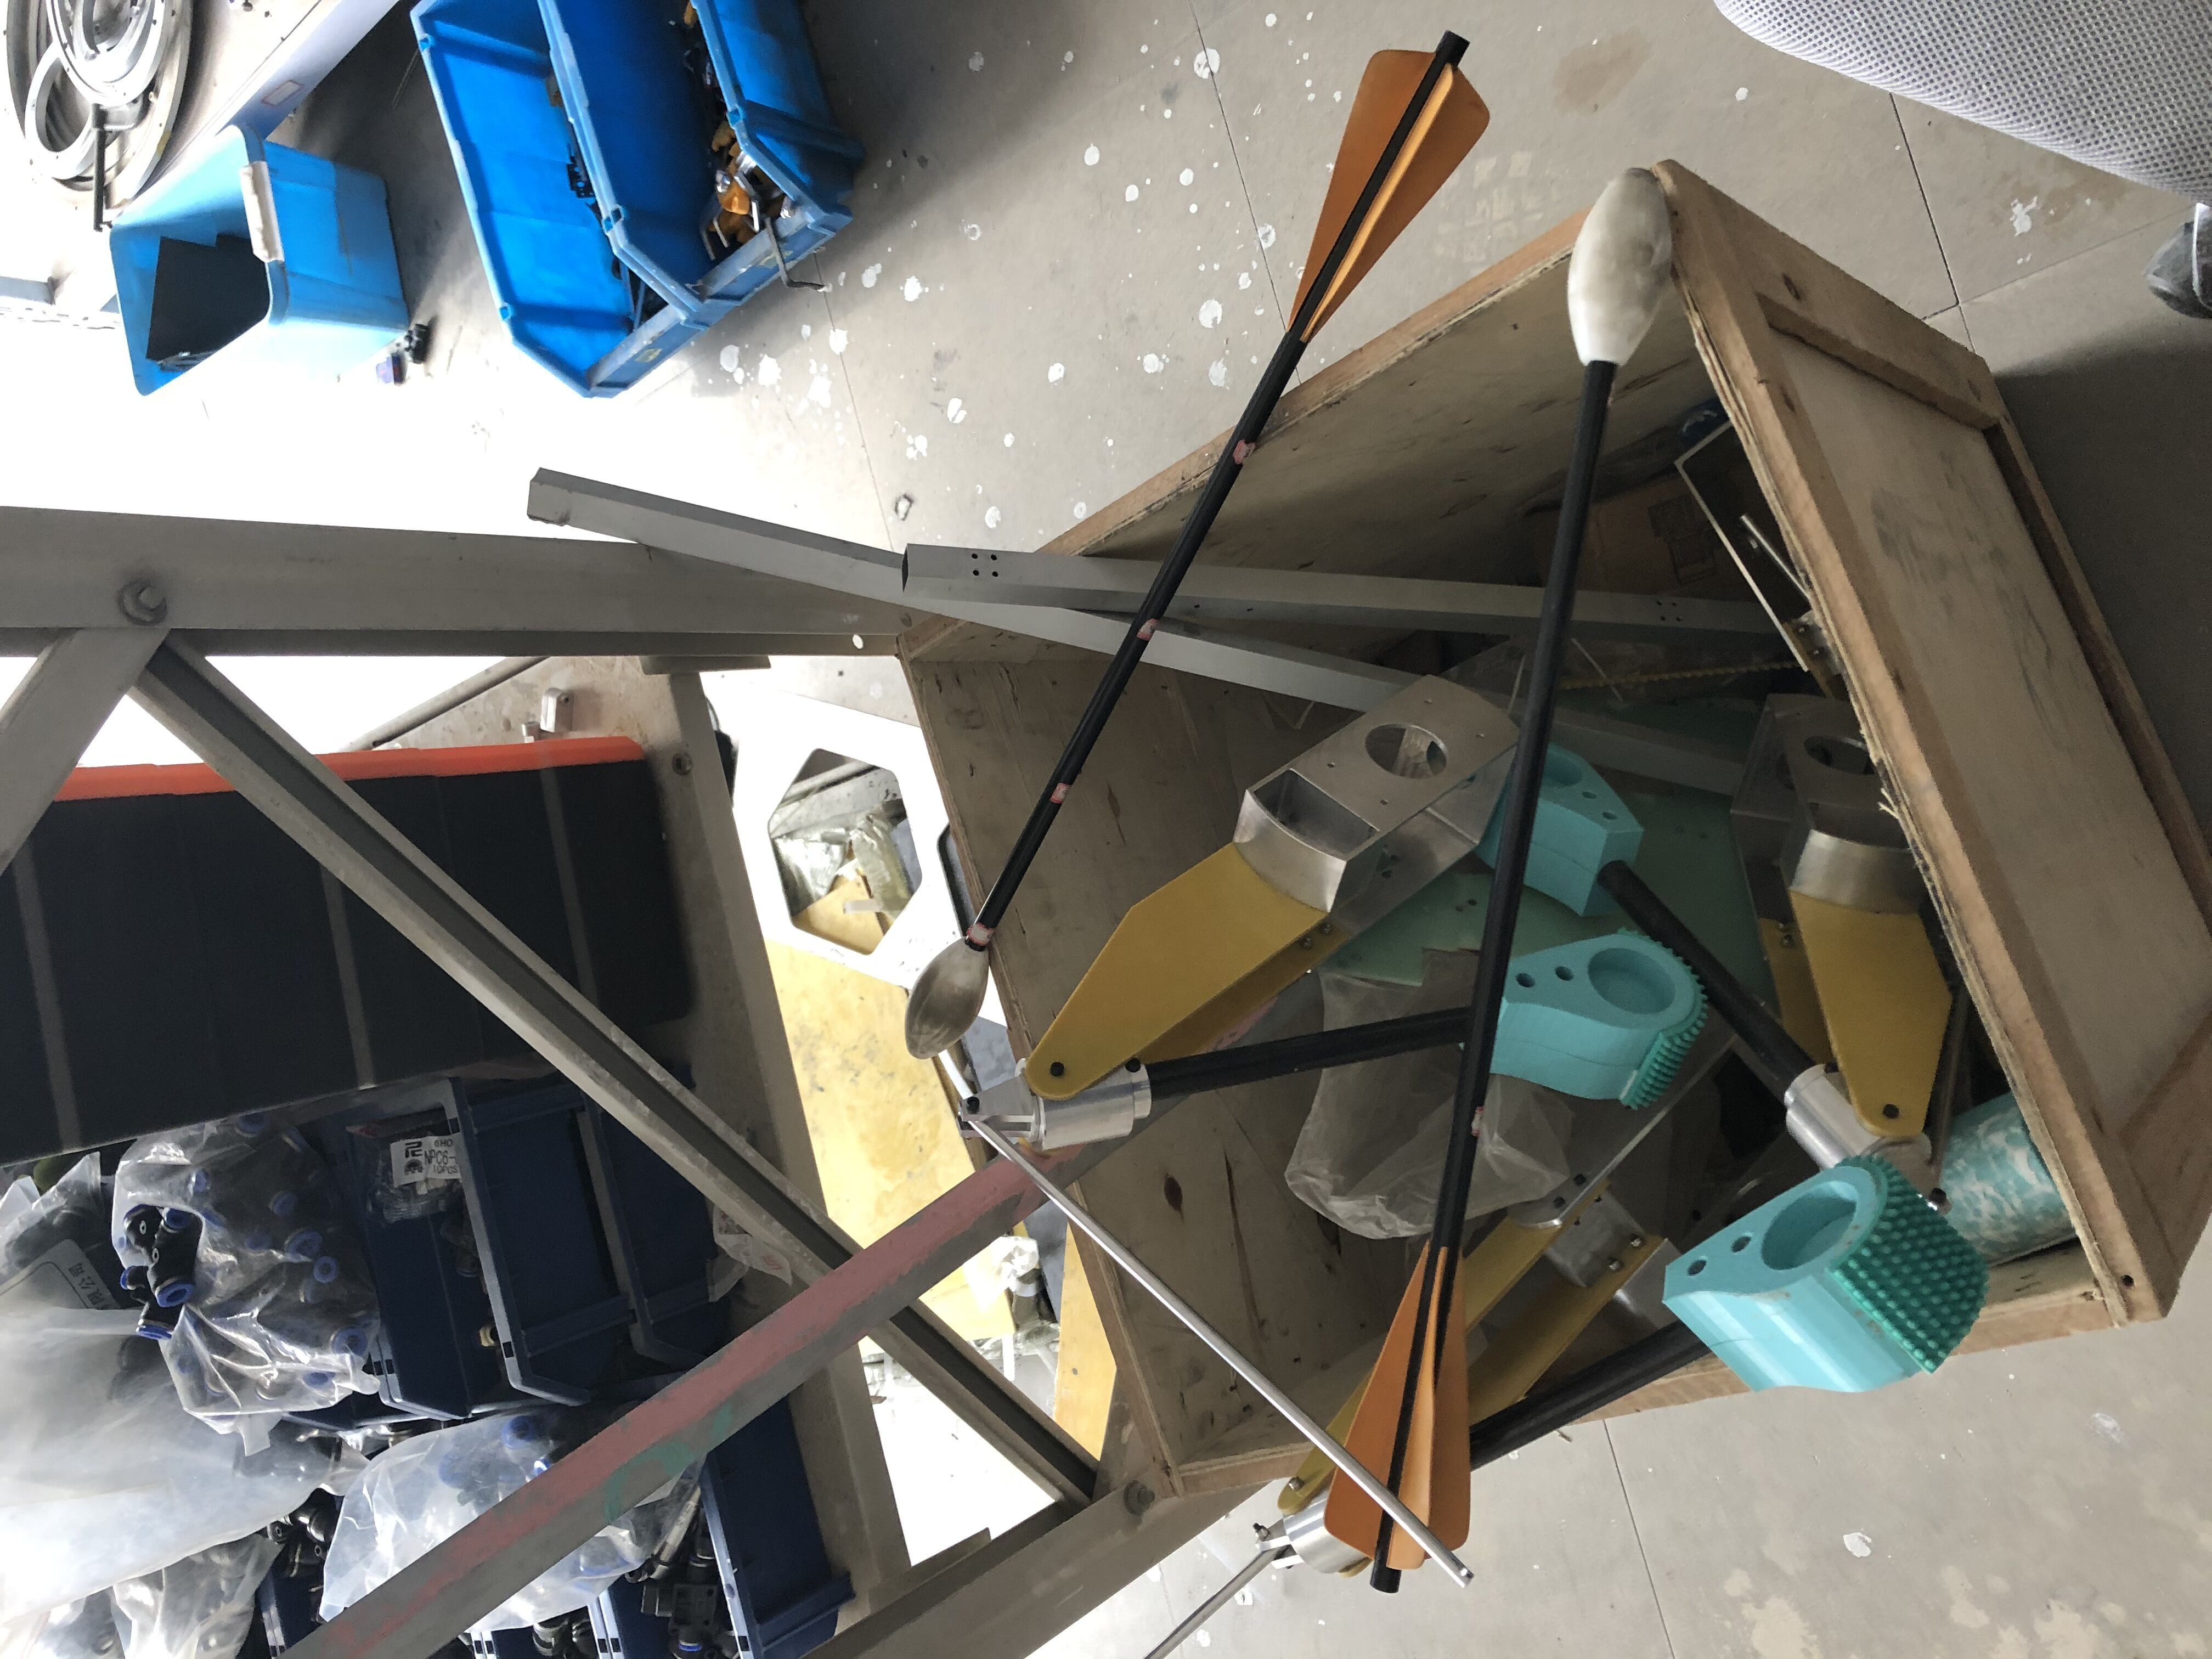arrow: (906, 30, 1491, 1060), (1325, 166, 1676, 1589)
arrowFront: (1564, 167, 1676, 362), (906, 943, 989, 1058)
